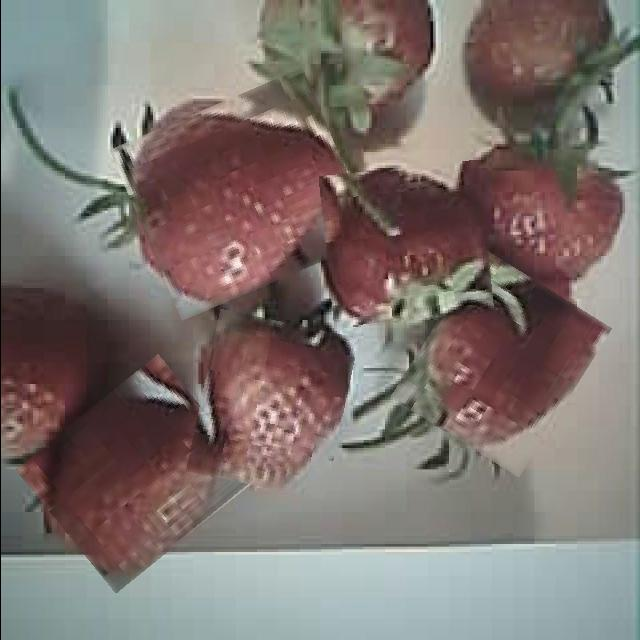strawberry: (122, 85, 360, 305), (29, 374, 242, 574), (406, 261, 594, 464), (192, 316, 350, 494), (322, 164, 489, 326)
